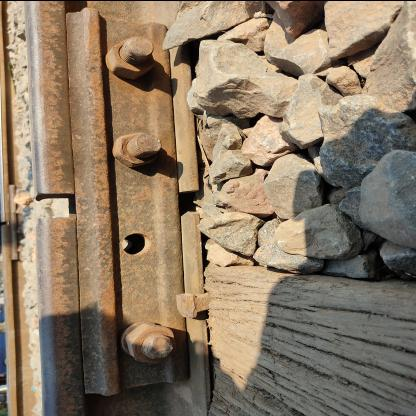Defective: (87, 9, 181, 390), (2, 115, 104, 304)
